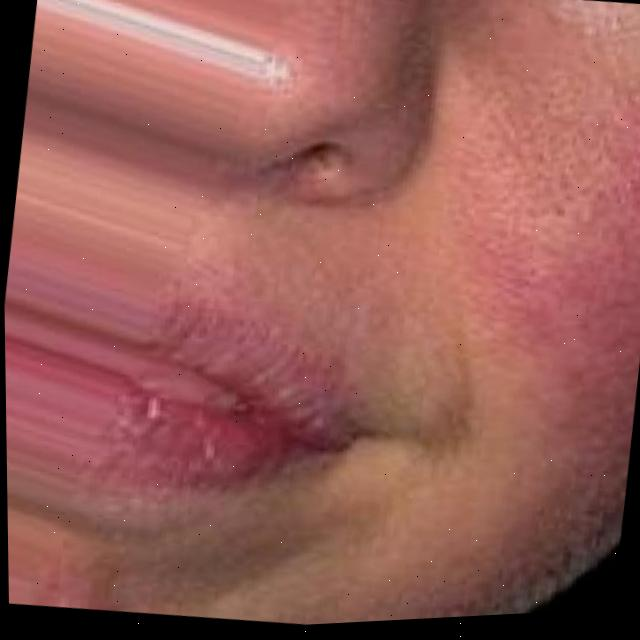Rosacea: (450, 71, 640, 467)
